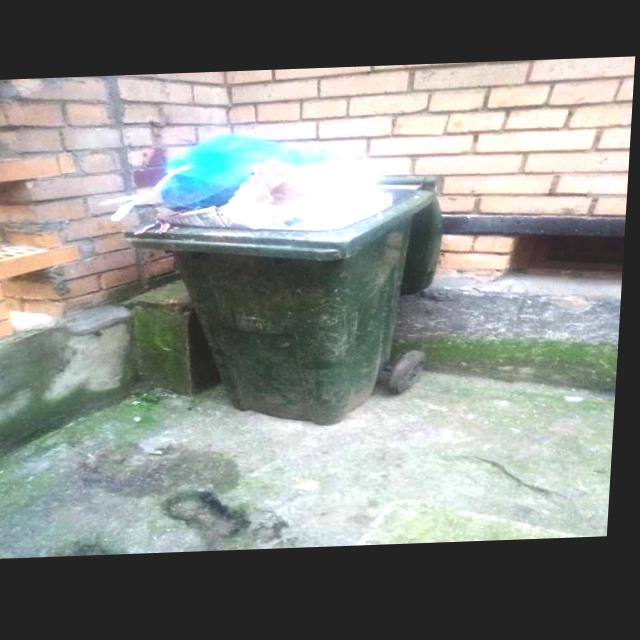Trash_Can_Full: (118, 126, 438, 436)
